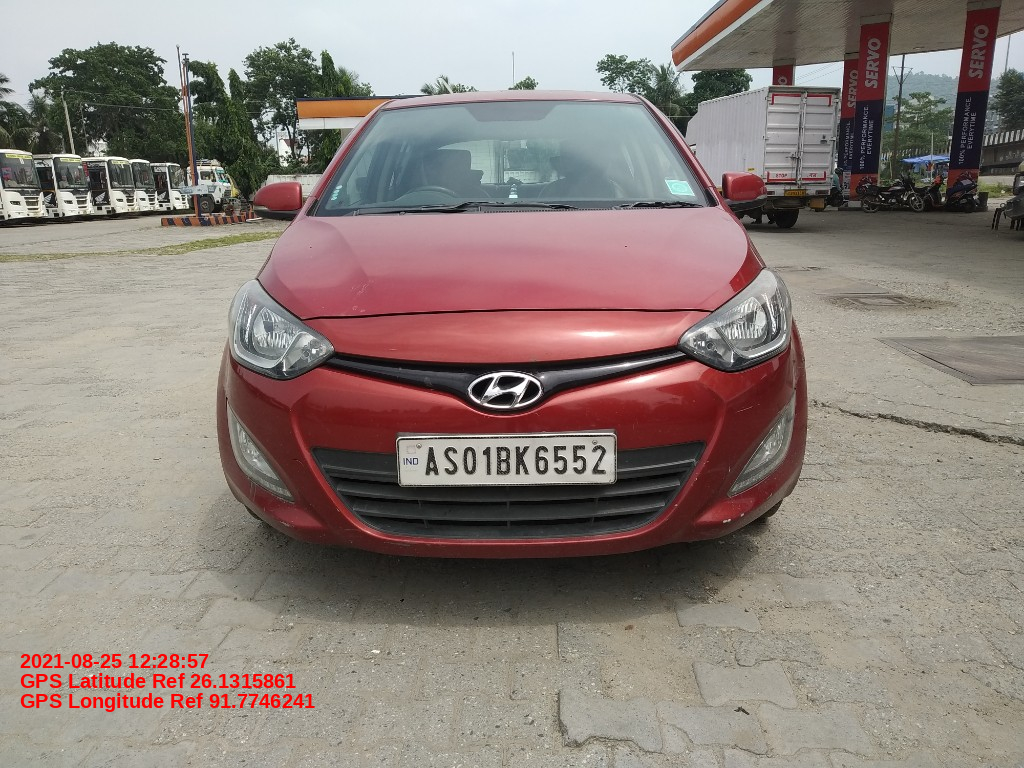Scratched: (243, 481, 274, 517), (733, 398, 761, 422), (723, 506, 749, 530), (276, 516, 299, 533)
